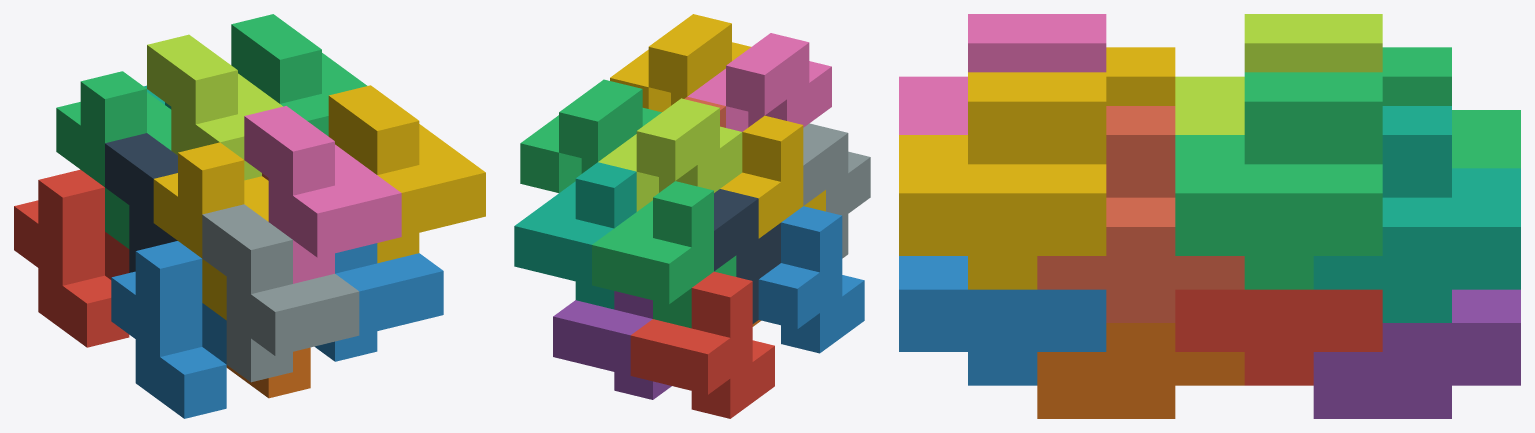
Rendered from tiling.obj.
3 renders of one model, left to right at view 1: azimuth 30°, elevation 25°; view 2: azimuth 150°, elevation 25°; view 3: azimuth 270°, elevation 25°, orthographic. The views are drawn at different scales.
Parts seen in each view (by area): view 1: copy_2_domain_2, copy_2_domain_4, copy_1_domain_2, copy_2_domain_8, copy_1_domain_1, copy_2_domain_3, copy_1_domain_3, copy_1_domain_4, copy_2_domain_7, copy_2_domain_6, copy_2_domain_1, copy_1_domain_6; view 2: copy_1_domain_1, copy_1_domain_3, copy_1_domain_2, copy_1_domain_7, copy_2_domain_3, copy_2_domain_4, copy_2_domain_7, copy_2_domain_8, copy_1_domain_5, copy_1_domain_4, copy_2_domain_2, copy_2_domain_1; view 3: copy_2_domain_7, copy_2_domain_8, copy_1_domain_7, copy_1_domain_8, copy_1_domain_5, copy_2_domain_6, copy_2_domain_5, copy_1_domain_6, copy_2_domain_3, copy_2_domain_4, copy_1_domain_3, copy_1_domain_4.
Boxes of the visible parts, bbox=[...] form: copy_2_domain_2: bbox=[202, 204, 359, 382]; copy_2_domain_4: bbox=[244, 106, 401, 283]; copy_1_domain_2: bbox=[111, 241, 226, 418]; copy_2_domain_8: bbox=[328, 85, 485, 263]; copy_1_domain_1: bbox=[14, 169, 129, 347]; copy_2_domain_3: bbox=[147, 34, 282, 180]; copy_1_domain_3: bbox=[56, 71, 171, 248]; copy_1_domain_4: bbox=[153, 142, 268, 320]; copy_2_domain_7: bbox=[231, 14, 367, 136]; copy_2_domain_6: bbox=[314, 243, 443, 361]; copy_2_domain_1: bbox=[105, 133, 177, 272]; copy_1_domain_6: bbox=[226, 347, 310, 398]; copy_1_domain_1: bbox=[630, 271, 774, 418]; copy_1_domain_3: bbox=[592, 181, 736, 328]; copy_1_domain_2: bbox=[758, 206, 864, 353]; copy_1_domain_7: bbox=[514, 162, 636, 309]; copy_2_domain_3: bbox=[598, 98, 742, 211]; copy_2_domain_4: bbox=[687, 33, 831, 131]; copy_2_domain_7: bbox=[520, 79, 661, 192]; copy_2_domain_8: bbox=[610, 14, 750, 112]; copy_1_domain_5: bbox=[553, 291, 671, 399]; copy_1_domain_4: bbox=[720, 115, 825, 238]; copy_2_domain_2: bbox=[803, 123, 870, 258]; copy_2_domain_1: bbox=[714, 189, 780, 323]; copy_2_domain_7: bbox=[1175, 72, 1382, 289]; copy_2_domain_8: bbox=[899, 72, 1106, 289]; copy_1_domain_7: bbox=[1313, 106, 1520, 322]; copy_1_domain_8: bbox=[1037, 106, 1244, 322]; copy_1_domain_5: bbox=[1313, 289, 1520, 418]; copy_2_domain_6: bbox=[899, 256, 1106, 385]; copy_2_domain_5: bbox=[1175, 289, 1382, 385]; copy_1_domain_6: bbox=[1037, 323, 1244, 418]; copy_2_domain_3: bbox=[1175, 14, 1382, 134]; copy_2_domain_4: bbox=[899, 14, 1106, 134]; copy_1_domain_3: bbox=[1382, 47, 1520, 168]; copy_1_domain_4: bbox=[1106, 47, 1175, 105].
Bounding box in the file's own units: 6 × 6 × 9.
